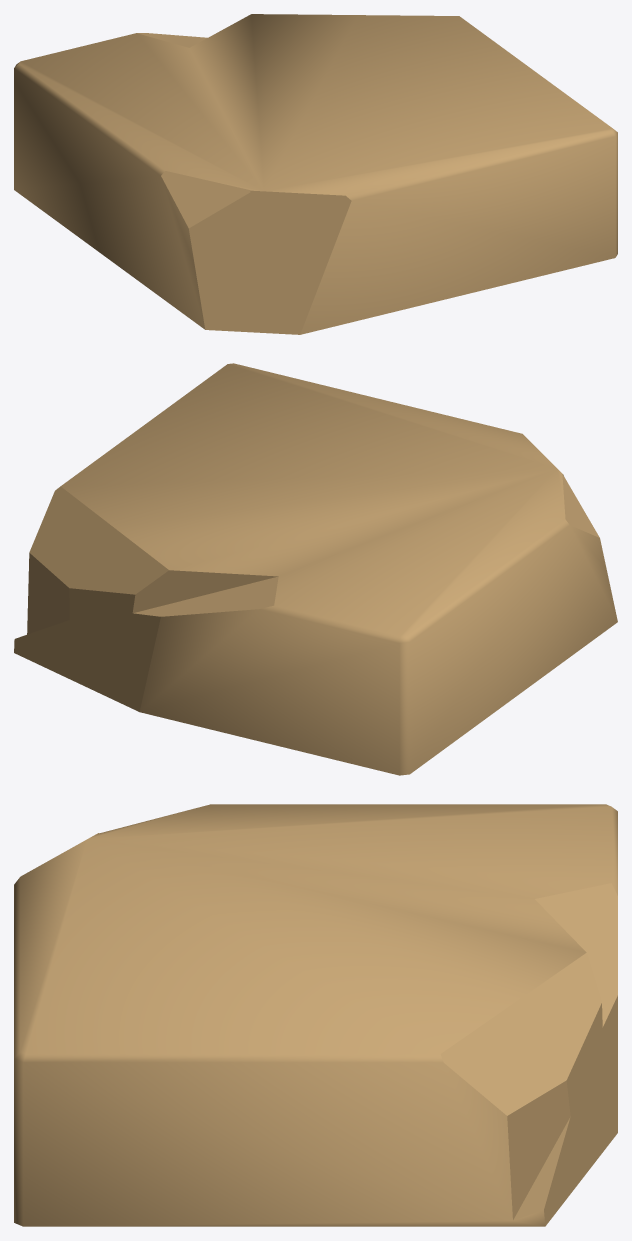
Rendered from BrokenRuin_brickBig_01.fbx.
3 renders of one model, top to bottom at view 1: azimuth 30°, elevation 25°; view 2: azimuth 150°, elevation 25°; view 3: azimuth 270°, elevation 25°, orthographic. The views are drawn at different scales.
Parts seen in each view (by area): view 1: bigBrick_L_01; view 2: bigBrick_L_01; view 3: bigBrick_L_01.
Boxes of the visible parts, left/top/right/bottom form: bigBrick_L_01: left=14, top=14, right=617, bottom=334; bigBrick_L_01: left=14, top=363, right=617, bottom=775; bigBrick_L_01: left=14, top=804, right=617, bottom=1226.
Bounding box in the file's own units: 200 × 62.1 × 200.
